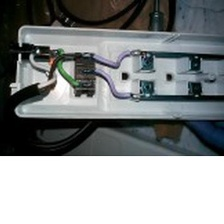three_eye_plug: (7, 19, 224, 124)
